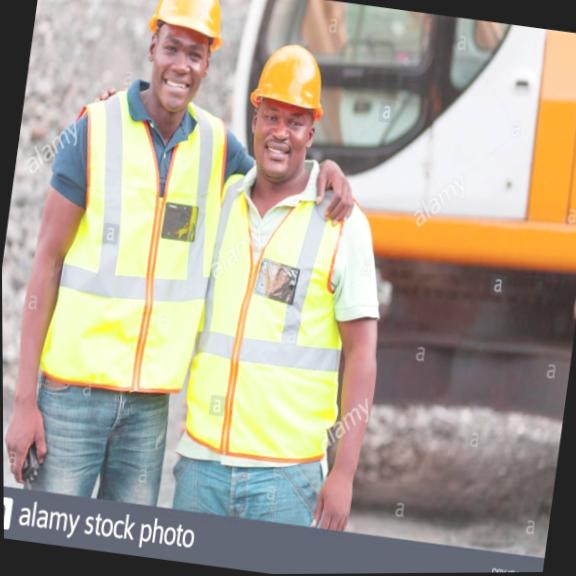safety_vest: (181, 155, 372, 493), (37, 76, 235, 402)
